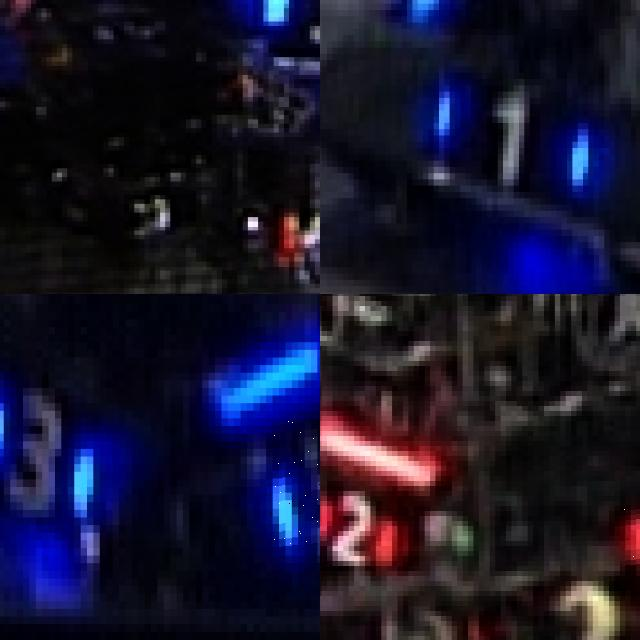B1: (428, 79, 594, 198)
B3: (0, 373, 99, 510), (266, 418, 320, 555)
R2: (320, 476, 397, 571)
